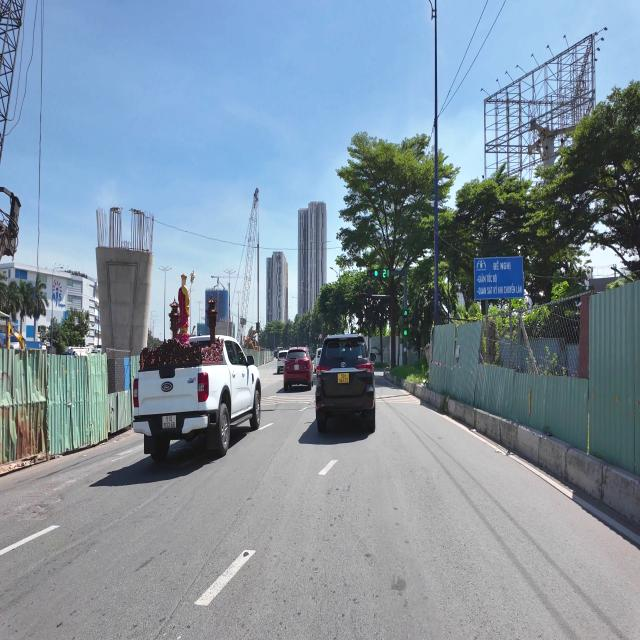car: (133, 336, 260, 461), (316, 335, 375, 432), (284, 347, 312, 390), (277, 350, 287, 373), (315, 347, 321, 371)
